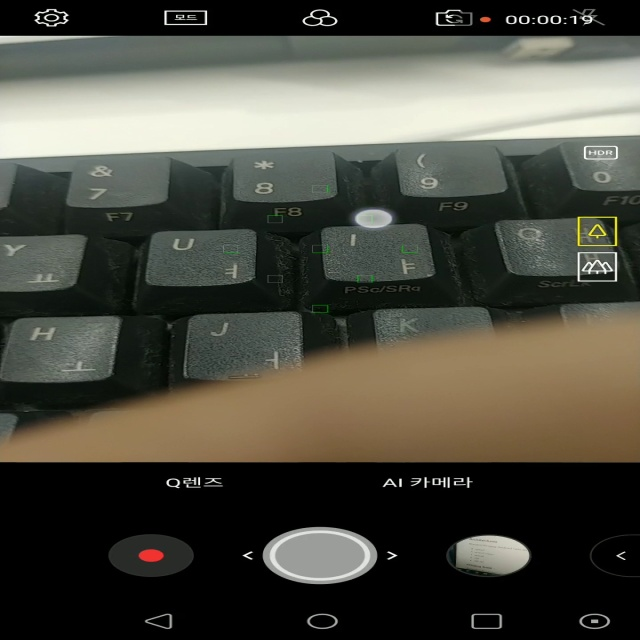Cursor: (352, 208, 396, 230)
